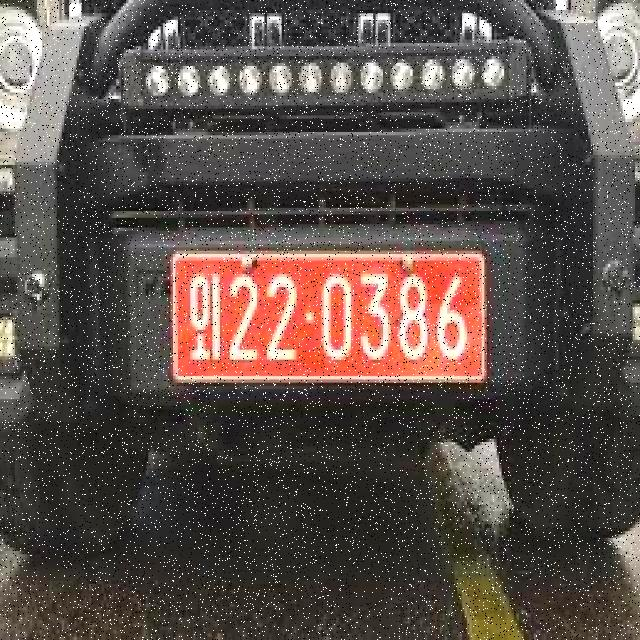licenseplate: (172, 249, 488, 384)
